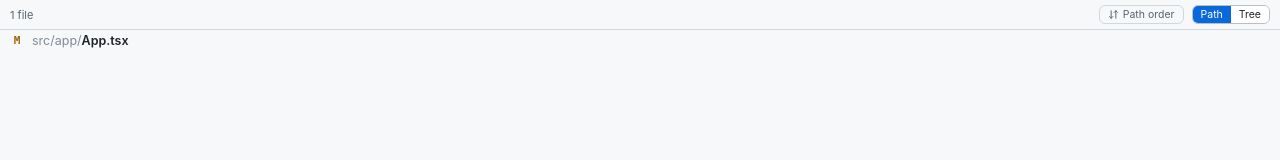
a file row › shows only the leaf in tree mode, with no directory span
Click the button "Tree": (1250, 14) x1=1231 y1=6 x2=1269 y2=23
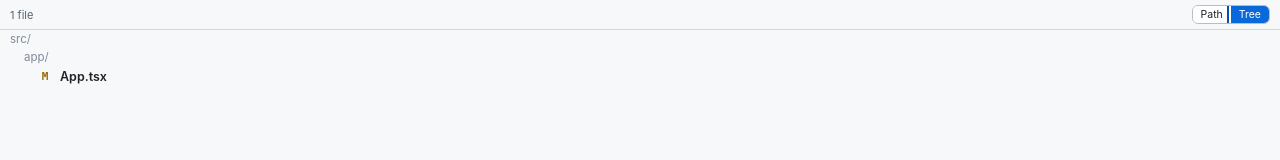
Check: the text "App.tsx" is shown, box x1=60 y1=69 x2=107 y2=84
Check: the text with class "file-dir" is gone
